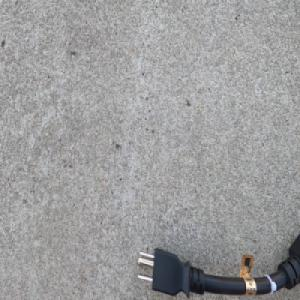Wire: (134, 229, 300, 298)
